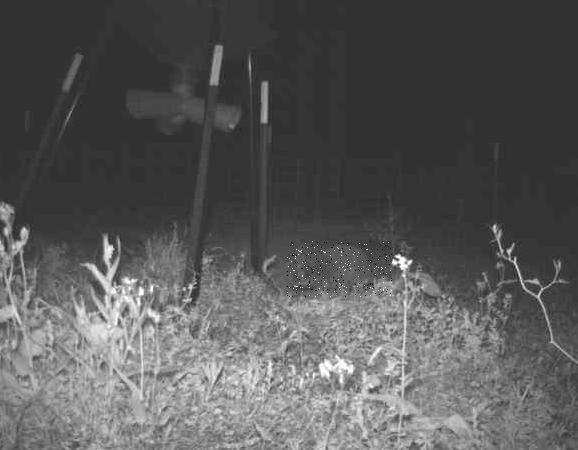Raccoon: (286, 241, 391, 297)
